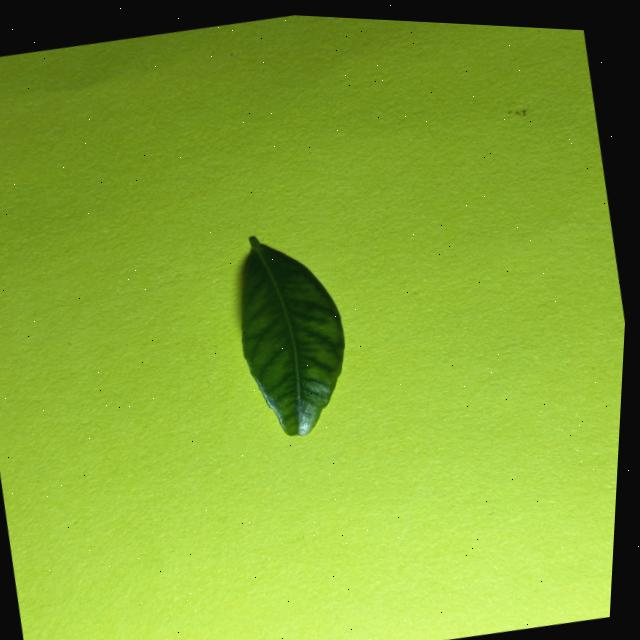greening: (241, 236, 344, 435)
